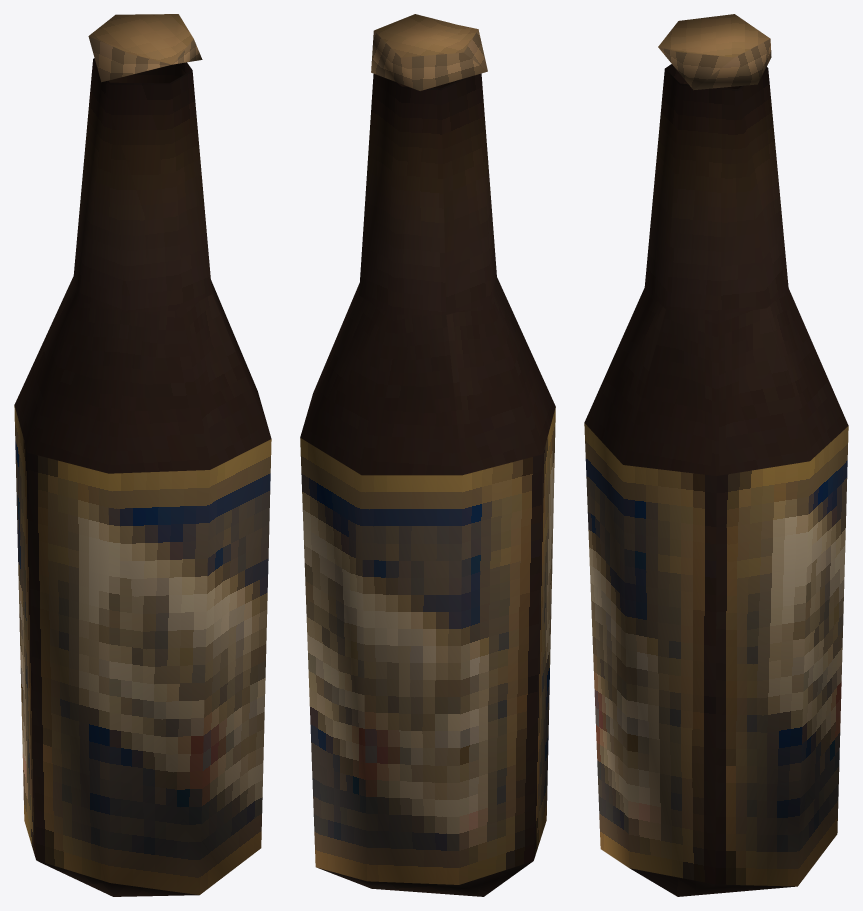
The model's file is glass_bottle_1.glb.
3 renders of one model, left to right at view 1: azimuth 30°, elevation 25°; view 2: azimuth 150°, elevation 25°; view 3: azimuth 270°, elevation 25°, orthographic.
Visible parts, largest first — view 1: glass_bottle_1; view 2: glass_bottle_1; view 3: glass_bottle_1.
Boxes of the visible parts, x1,y1,x2,y2 form: glass_bottle_1: (14,14,271,896); glass_bottle_1: (300,14,555,896); glass_bottle_1: (584,14,848,896).
Size of the model in its own units: 0.1028 by 0.3531 by 0.1029.
Materials: 1 (1 with a texture image).
